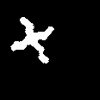single_crochet: (11, 17, 53, 62)
